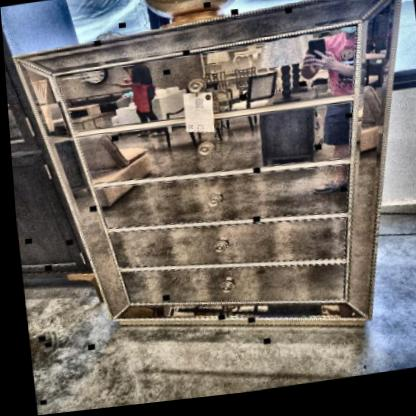Sideboard: (6, 0, 416, 380)
